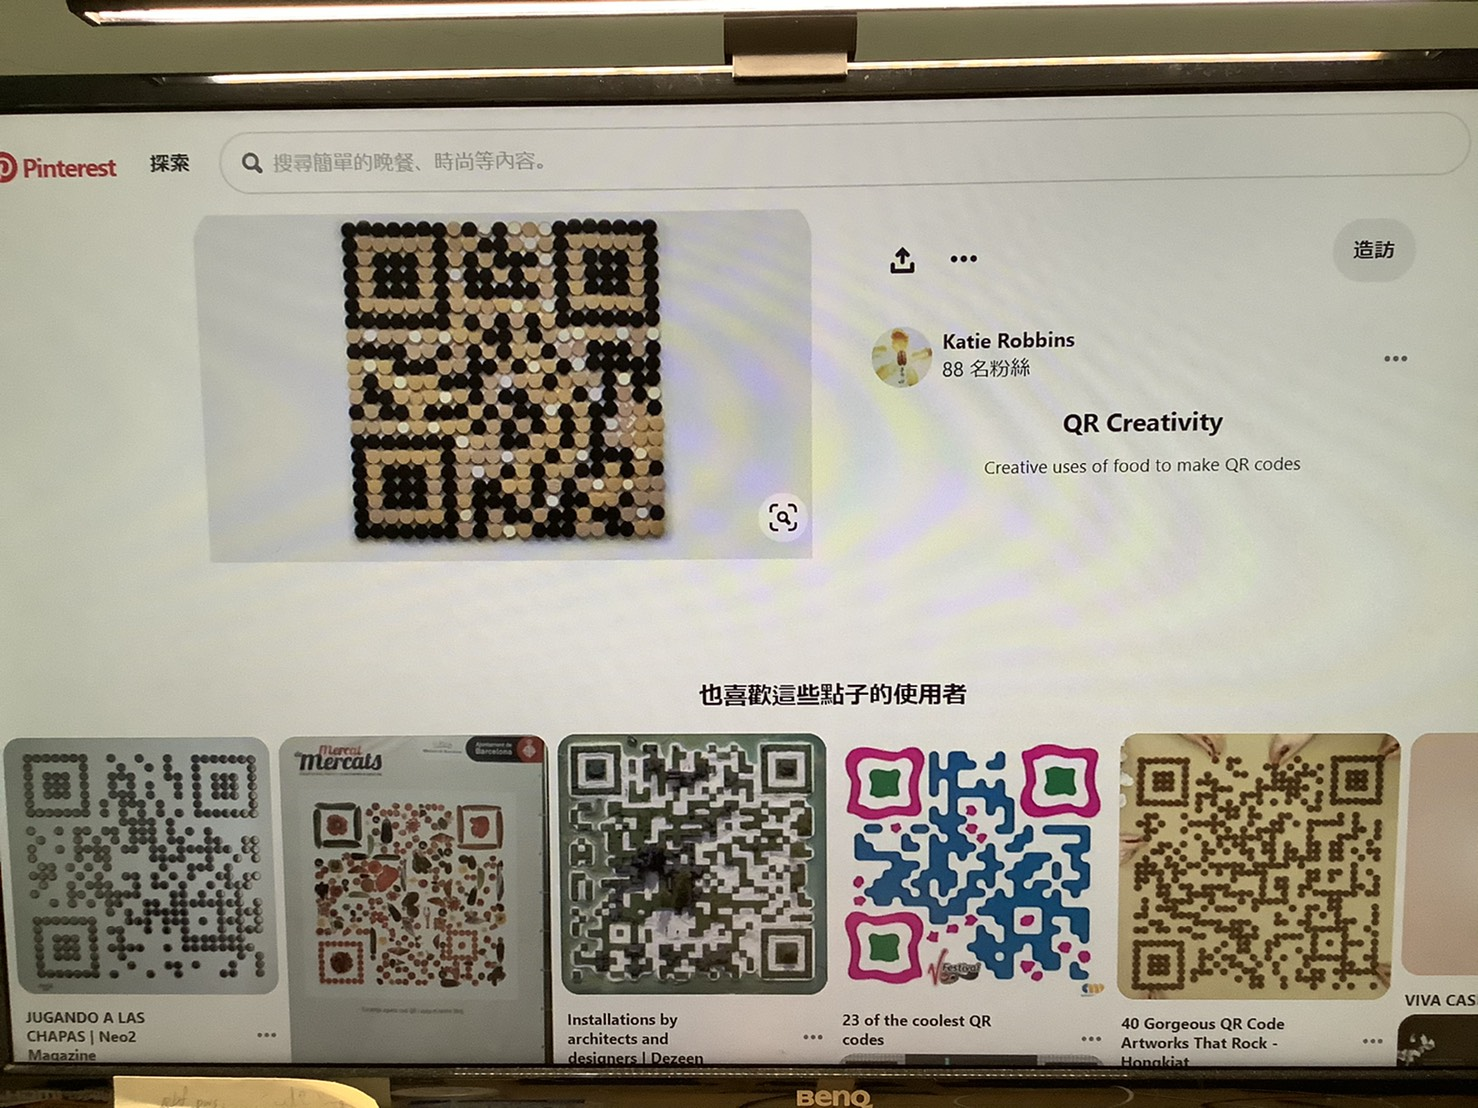QRCode: (339, 218, 668, 542), (846, 745, 1094, 987), (566, 745, 818, 982), (1134, 757, 1381, 993), (19, 753, 267, 981), (311, 800, 509, 987)
